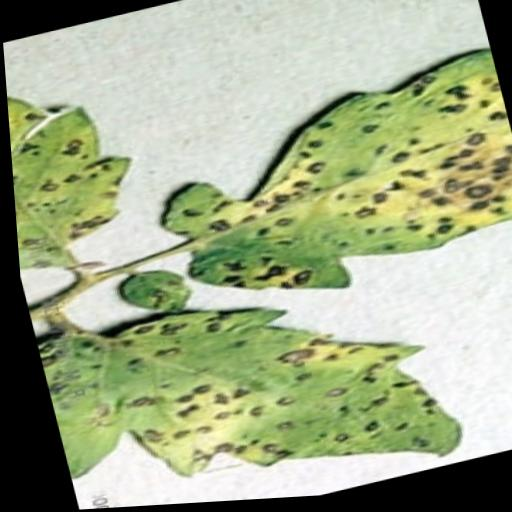Bacterial Spot: (25, 244, 472, 512), (124, 44, 512, 332), (3, 52, 154, 277)
